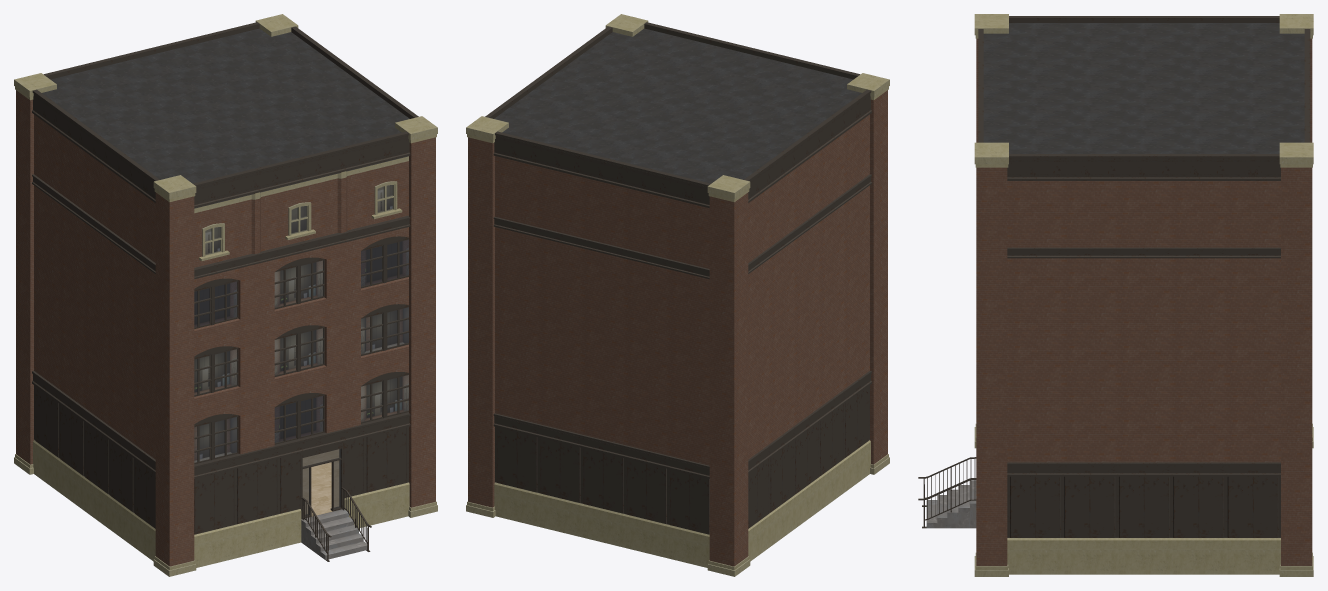
Rendered from Building_Small_1.gltf.
The picture shows the model from 3 angles, left to right: view 1: azimuth 30°, elevation 25°; view 2: azimuth 150°, elevation 25°; view 3: azimuth 270°, elevation 25°; orthographic projection. The views are drawn at different scales.
Visible parts, largest first — view 1: Building_Small_1; view 2: Building_Small_1; view 3: Building_Small_1.
Part boxes in pixels (left/top/right/bottom): Building_Small_1: left=14, top=14, right=437, bottom=576; Building_Small_1: left=466, top=14, right=889, bottom=576; Building_Small_1: left=918, top=14, right=1313, bottom=576.
Size of the model in its own units: 12.46 by 17.03 by 14.54.
Materials: 13 (12 with a texture image).
